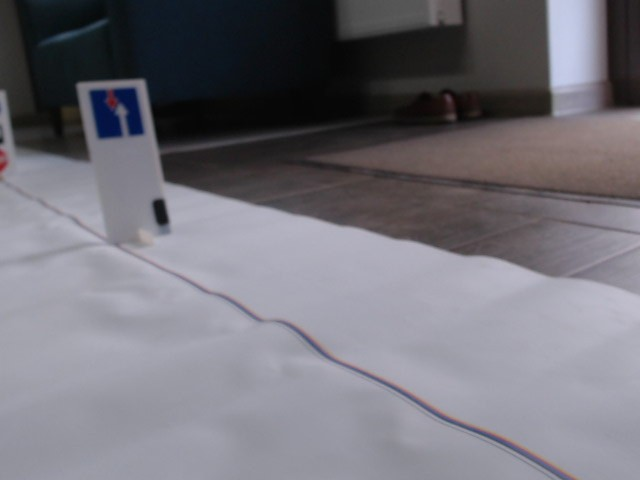priority_movement: (84, 86, 153, 140)
